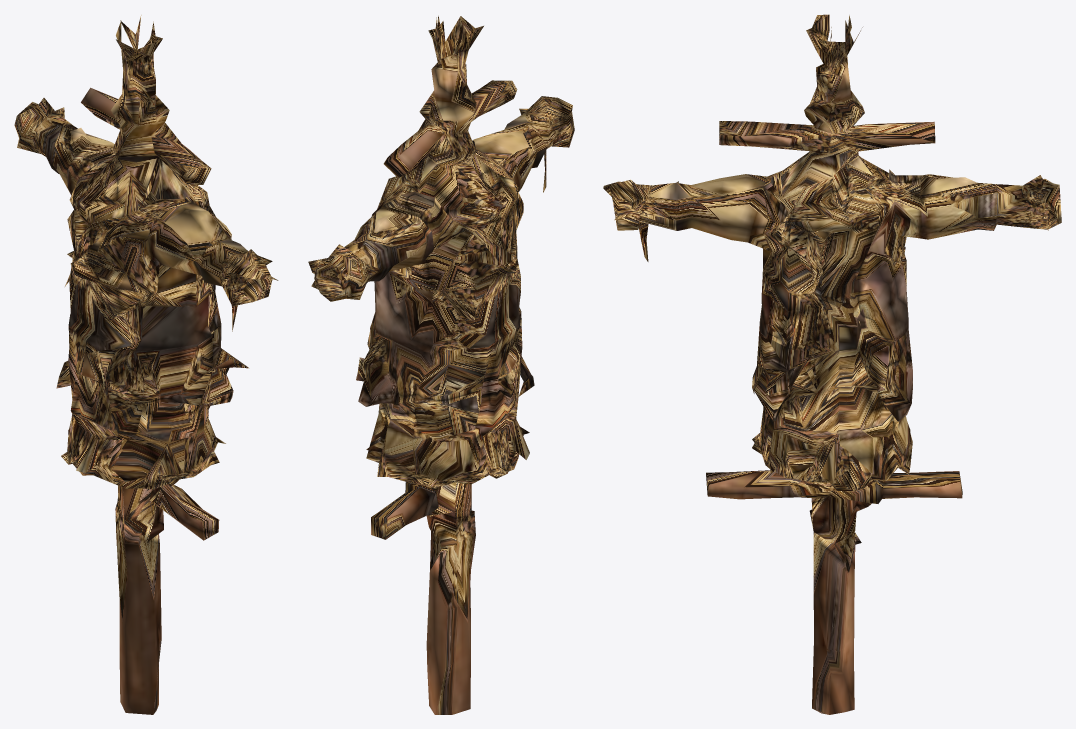
File: dummy-low.glb
3 views of the same model, side by side, from view 1: azimuth 30°, elevation 25°; view 2: azimuth 150°, elevation 25°; view 3: azimuth 270°, elevation 25° (orthographic).
Size of the model in its own units: 0.2185 by 0.9904 by 0.595.
Materials: 1 (1 with a texture image).
